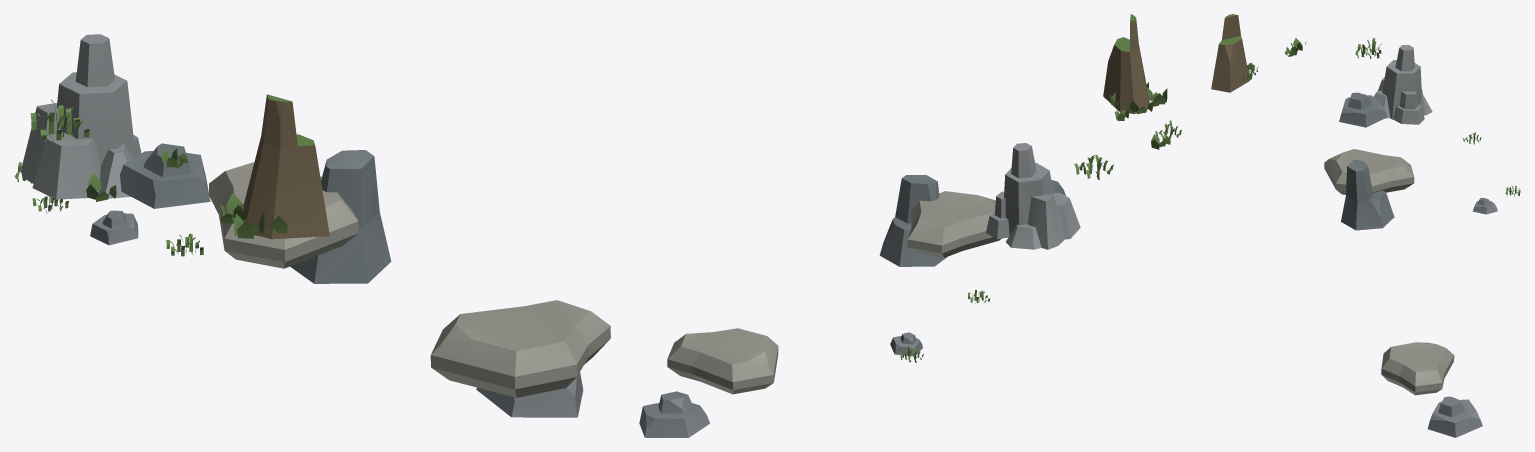
File: cell_x3_z-2_render.gltf
3 views of the same model, side by side, from view 1: azimuth 30°, elevation 25°; view 2: azimuth 150°, elevation 25°; view 3: azimuth 270°, elevation 25° (orthographic). The views are drawn at different scales.
Parts seen in each view (by area): view 1: cell_x3_z-2; view 2: cell_x3_z-2; view 3: cell_x3_z-2.
Boxes of the visible parts, x1,y1,x2,y2 form: cell_x3_z-2: (14, 34, 610, 417); cell_x3_z-2: (639, 14, 1181, 437); cell_x3_z-2: (1211, 14, 1520, 437).
Size of the model in its own units: 18.46 by 15.81 by 15.16.
